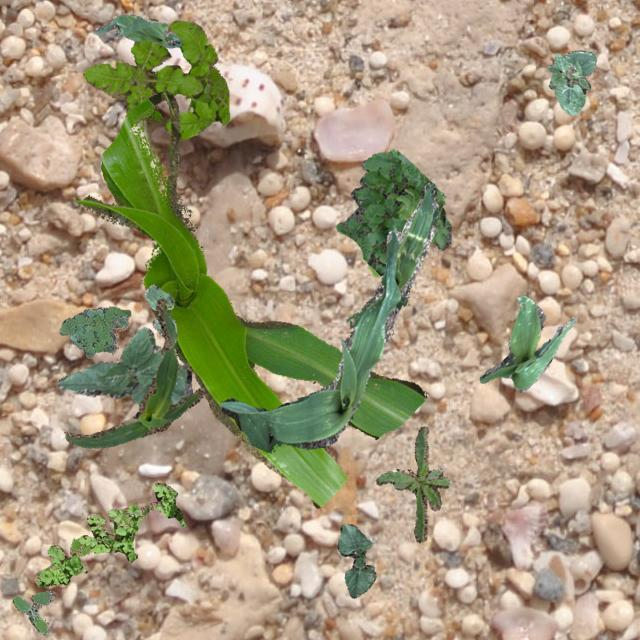crop: (74, 90, 423, 507), (219, 180, 436, 452), (64, 298, 206, 447), (56, 326, 192, 404), (478, 294, 576, 390), (546, 49, 594, 114), (336, 522, 374, 596), (94, 14, 180, 46), (144, 284, 176, 339)
weed: (82, 20, 228, 140), (34, 482, 184, 586), (336, 148, 450, 274), (374, 424, 448, 542), (59, 306, 130, 358), (12, 590, 54, 634)
